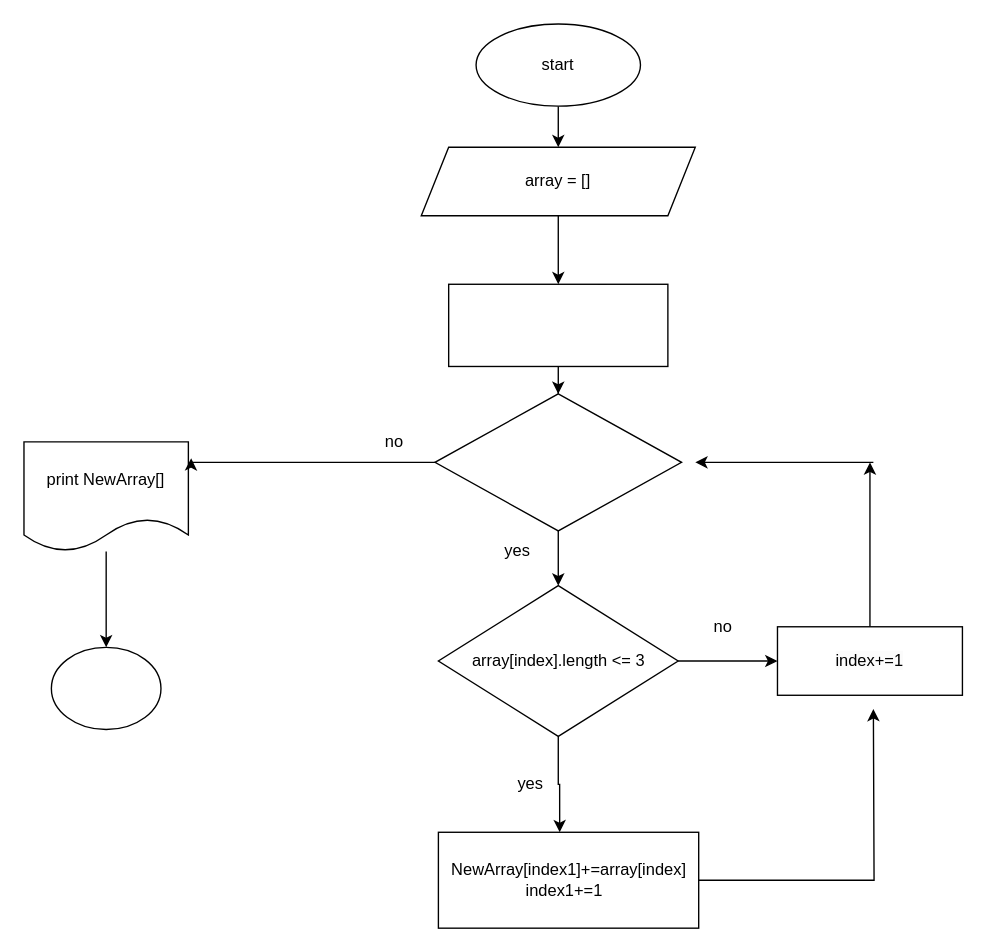
Some shapes in this 986 by 952 pixel diagram are drawn without their labels. The centre of each missing label's shape, as x and y in pixels:
"end" goes at (105,688).
"index < array[].length" goes at (558,462).
"index=0 index1=0 NewArray = []" goes at (557,324).
